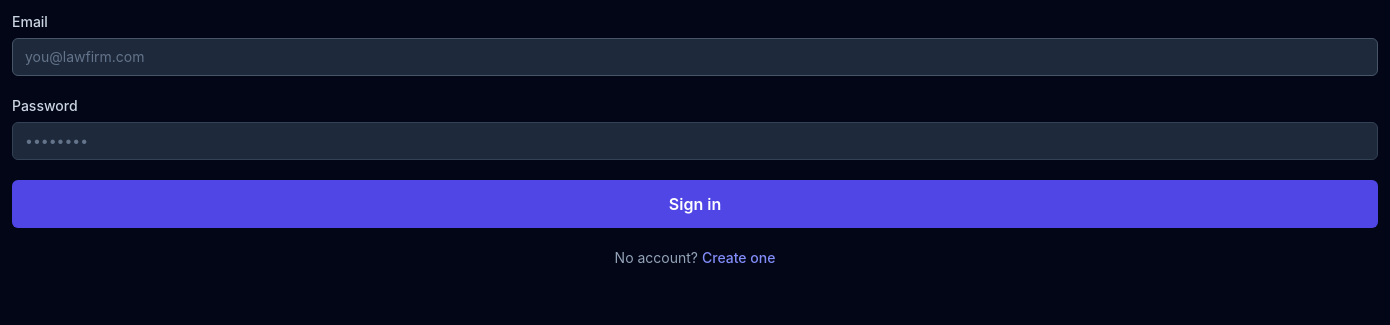
Test case: LoginForm › shows validation errors for empty form submission
Click the button "Sign in" at [695, 204], box left=12, top=180, right=1378, bottom=228
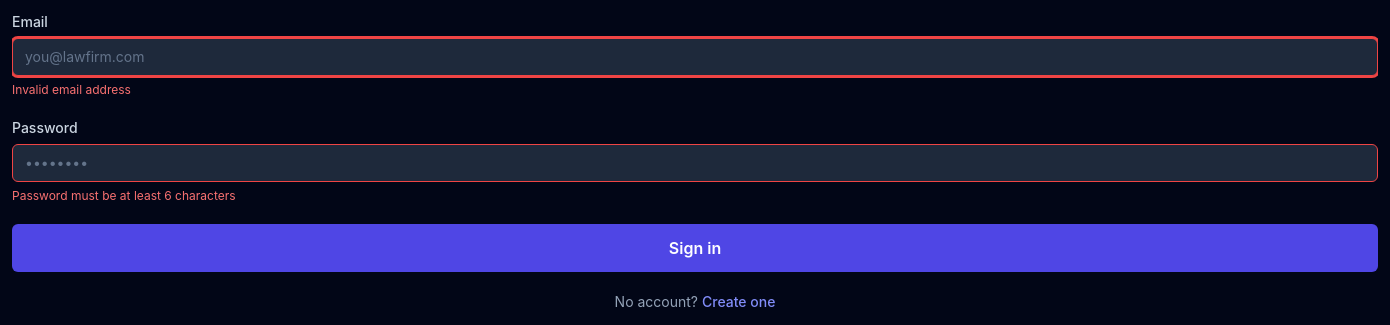
Check: the text "Invalid email address" is shown, box left=12, top=82, right=131, bottom=97
